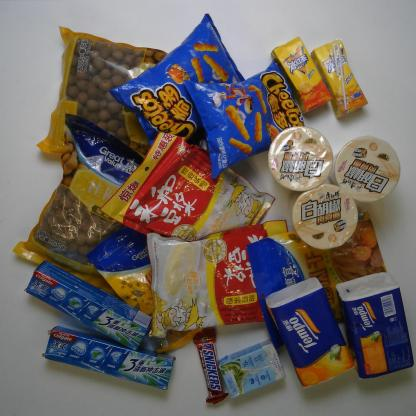Chocolate: (192, 330, 229, 404)
Dried Food: (12, 112, 127, 294), (39, 25, 169, 157)
Dried Fruit: (247, 211, 387, 344), (87, 225, 204, 353)
Drink: (270, 37, 334, 114), (309, 38, 368, 118)
Instant Drink: (100, 132, 275, 242), (147, 218, 289, 339)
Instant Noodles: (330, 135, 401, 204), (287, 184, 360, 251), (267, 125, 334, 192)
Milk: (219, 340, 287, 400)
Personal Hygiene: (24, 260, 153, 350), (42, 325, 176, 390)
Puffed Food: (110, 13, 244, 148), (182, 59, 305, 173)
Tissue: (264, 276, 354, 390), (336, 272, 414, 380)
